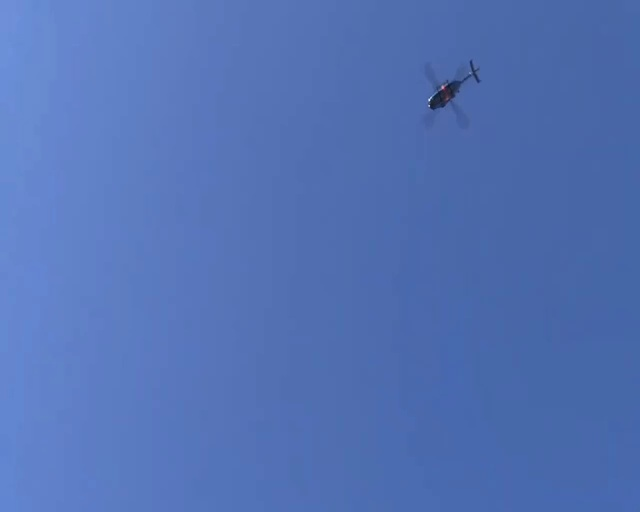HELICOPTER: (422, 58, 481, 109)
